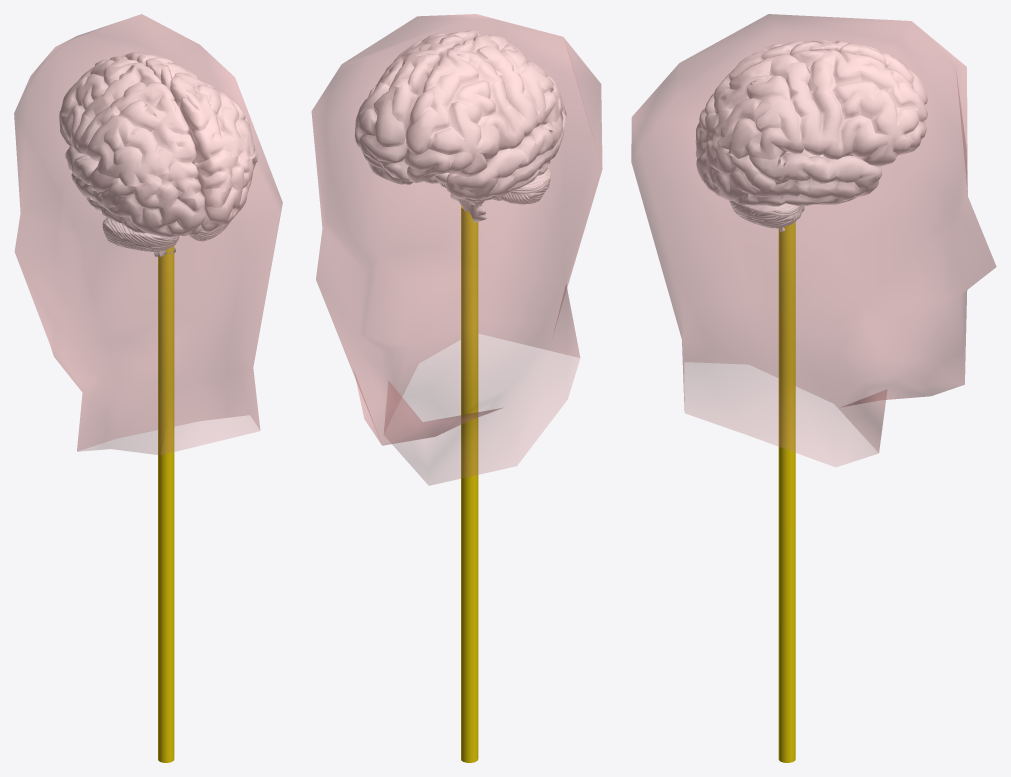
Rendered from Nervous system.glb.
3 views of the same model, side by side, from view 1: azimuth 30°, elevation 25°; view 2: azimuth 150°, elevation 25°; view 3: azimuth 270°, elevation 25° (orthographic). The views are drawn at different scales.
Visible parts, largest first — view 1: 3DGeom-12, 3DGeom-5, 3DGeom-10, 3DGeom-4, 3DGeom-3, 3DGeom-9, 3DGeom-1; view 2: 3DGeom-12, 3DGeom-3, 3DGeom-10, 3DGeom-9, 3DGeom-5, 3DGeom-1; view 3: 3DGeom-12, 3DGeom-3, 3DGeom-5, 3DGeom-10, 3DGeom-9, 3DGeom-4, 3DGeom-1.
Boxes of the visible parts, <box> form: 3DGeom-12: <box>14,14,282,454</box>; 3DGeom-5: <box>78,72,255,186</box>; 3DGeom-10: <box>158,246,174,762</box>; 3DGeom-4: <box>109,150,257,236</box>; 3DGeom-3: <box>59,52,198,153</box>; 3DGeom-9: <box>65,146,128,227</box>; 3DGeom-1: <box>102,217,231,251</box>; 3DGeom-12: <box>311,14,602,485</box>; 3DGeom-3: <box>354,35,532,182</box>; 3DGeom-10: <box>461,206,478,762</box>; 3DGeom-9: <box>361,112,563,201</box>; 3DGeom-5: <box>384,30,564,130</box>; 3DGeom-1: <box>424,166,551,204</box>; 3DGeom-12: <box>631,14,996,466</box>; 3DGeom-3: <box>789,39,927,166</box>; 3DGeom-5: <box>713,41,821,159</box>; 3DGeom-10: <box>778,221,795,762</box>; 3DGeom-9: <box>747,149,882,206</box>; 3DGeom-4: <box>695,93,759,205</box>; 3DGeom-1: <box>729,200,802,228</box>.
Size of what is drawn, in the model's own units: 0.1685 by 0.5627 by 0.2567.
